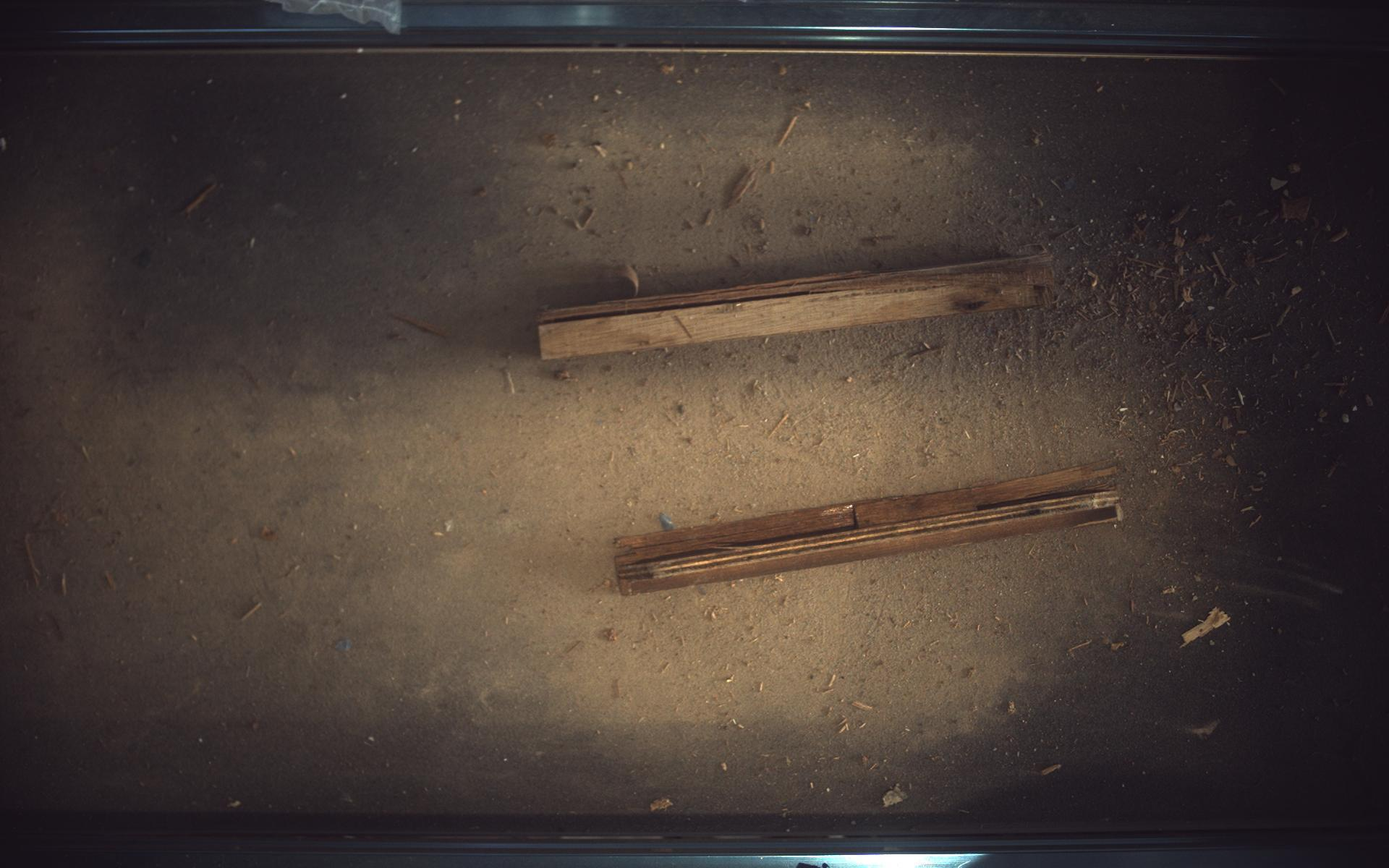wood: (616, 465, 1123, 596), (538, 253, 1055, 359)
